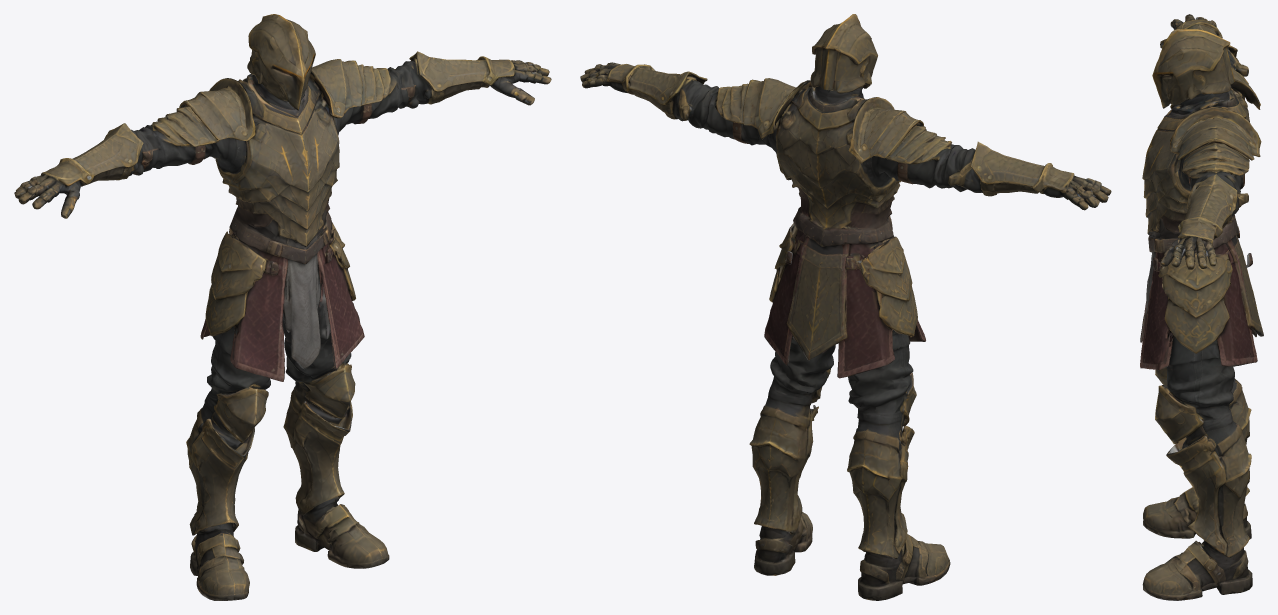
Rendered from source.glb.
3 renders of one model, left to right at view 1: azimuth 30°, elevation 25°; view 2: azimuth 150°, elevation 25°; view 3: azimuth 270°, elevation 25°, orthographic. The views are drawn at different scales.
Visible parts, largest first — view 1: texture_mapping; view 2: texture_mapping; view 3: texture_mapping.
Boxes of the visible parts, box(x1,y1,x2,y2) form: texture_mapping: box(14, 14, 551, 600); texture_mapping: box(580, 14, 1111, 600); texture_mapping: box(1140, 14, 1263, 600).
Size of the model in its own units: 0.9996 by 0.9972 by 0.2105.
1 material, 1 textured.
